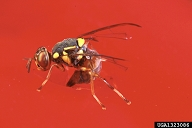Fruit fly: (24, 30, 128, 104)
